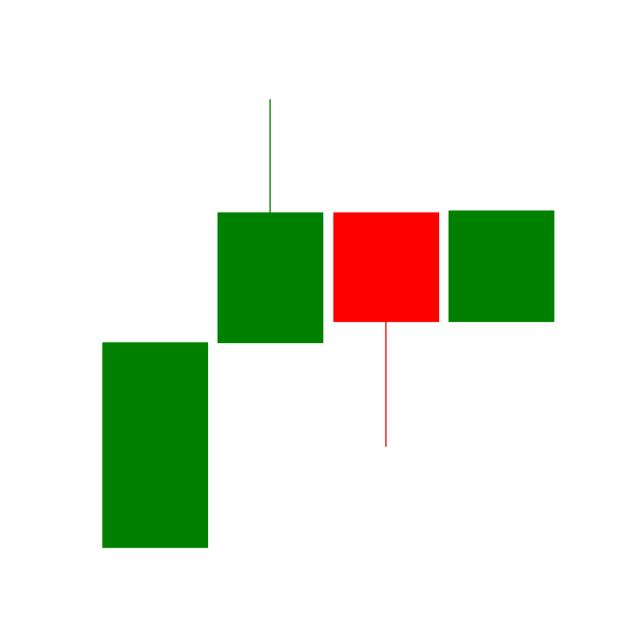Bullish Marubozu: (101, 338, 211, 552), (446, 210, 555, 324)
Hanging Man: (328, 210, 444, 450)
Inverted Hammer: (217, 95, 326, 343)
